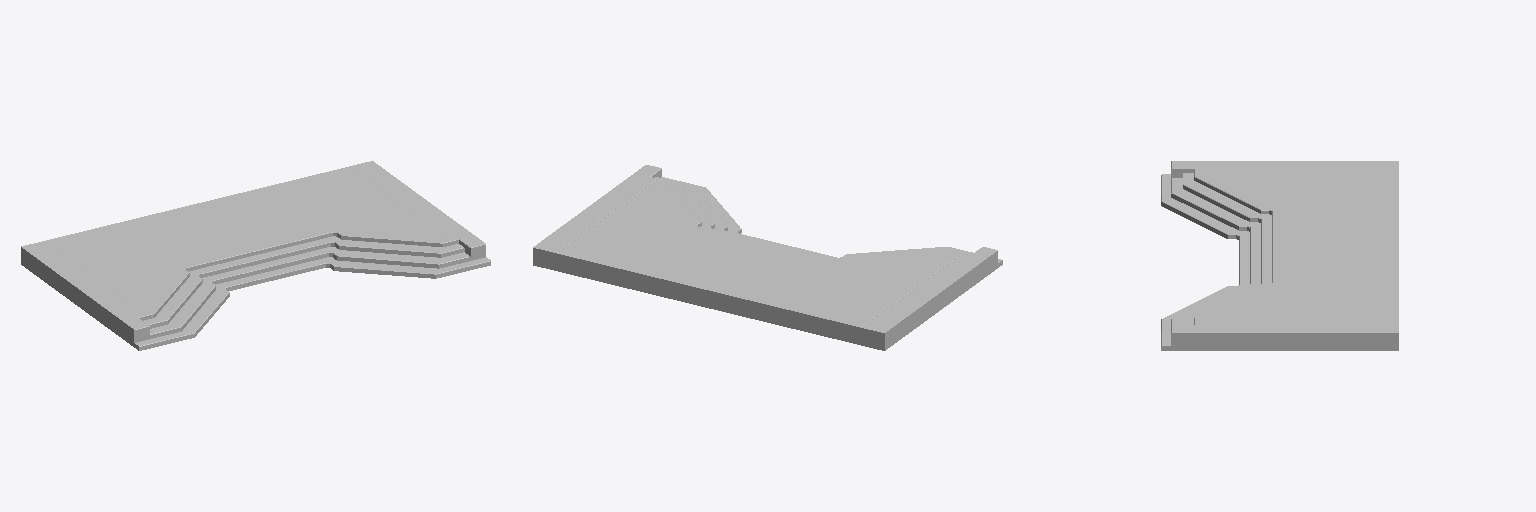
The model's file is AmaformStairs_01.obj.
3 renders of one model, left to right at view 1: azimuth 30°, elevation 25°; view 2: azimuth 150°, elevation 25°; view 3: azimuth 270°, elevation 25°, orthographic.
Parts seen in each view (by area): view 1: AmaformStairs_01.obj; view 2: AmaformStairs_01.obj; view 3: AmaformStairs_01.obj.
Part boxes in pixels (x1,y1,x2,y2): AmaformStairs_01.obj: (21, 161, 490, 350); AmaformStairs_01.obj: (533, 165, 1002, 350); AmaformStairs_01.obj: (1161, 161, 1398, 350).
Bounding box in the file's own units: 1 × 0.0483 × 0.5837.